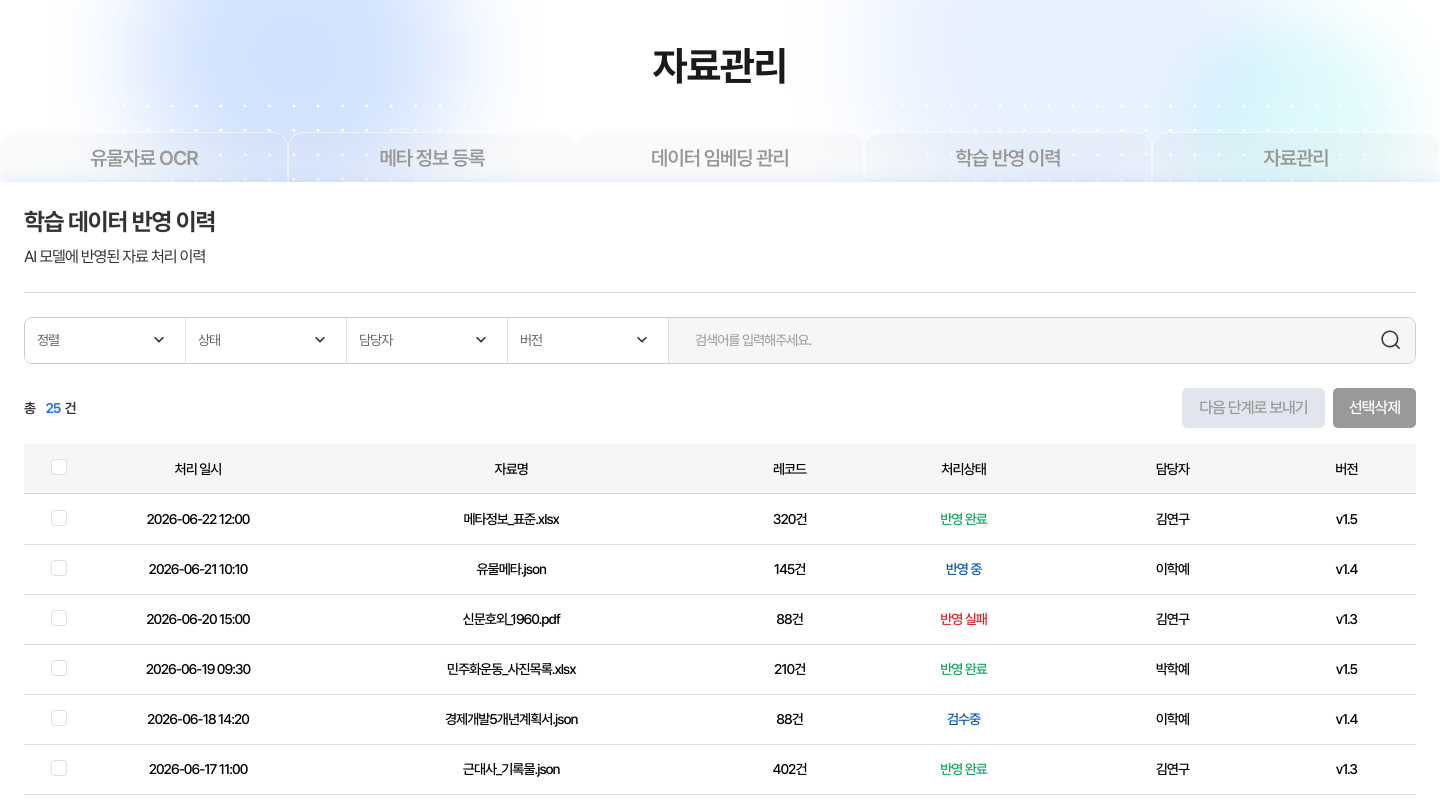
Test: History: 검색 제출은 페이지 리로드 없이 표를 거른다
The width and height of the screenshot is (1440, 810).
In the search field with placeholder "검색어를 입력해주세요.": [1032, 340] box [685,318,1379,363], type "유물메타"
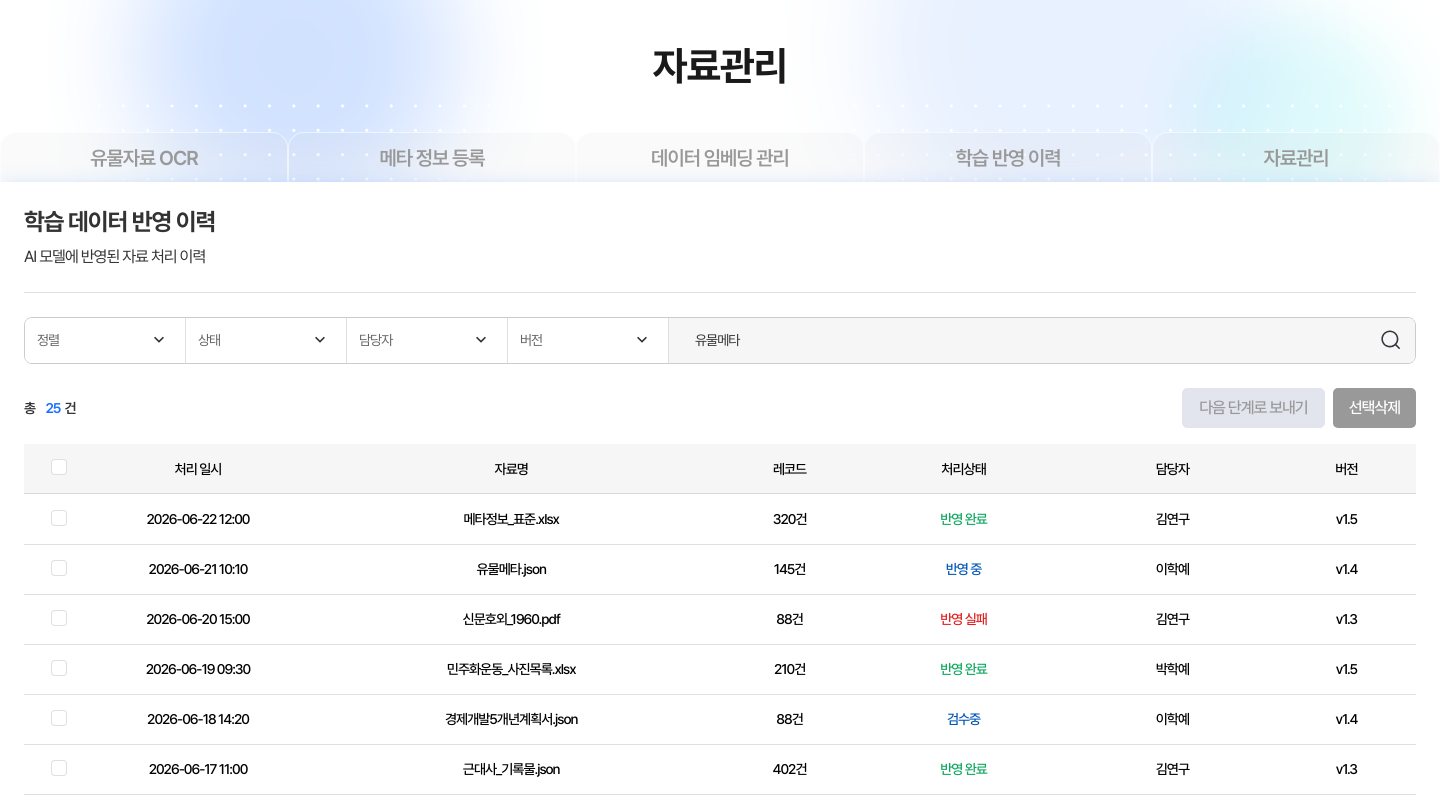
Click the button named "검색": [1391, 340] box [1379,328,1403,352]
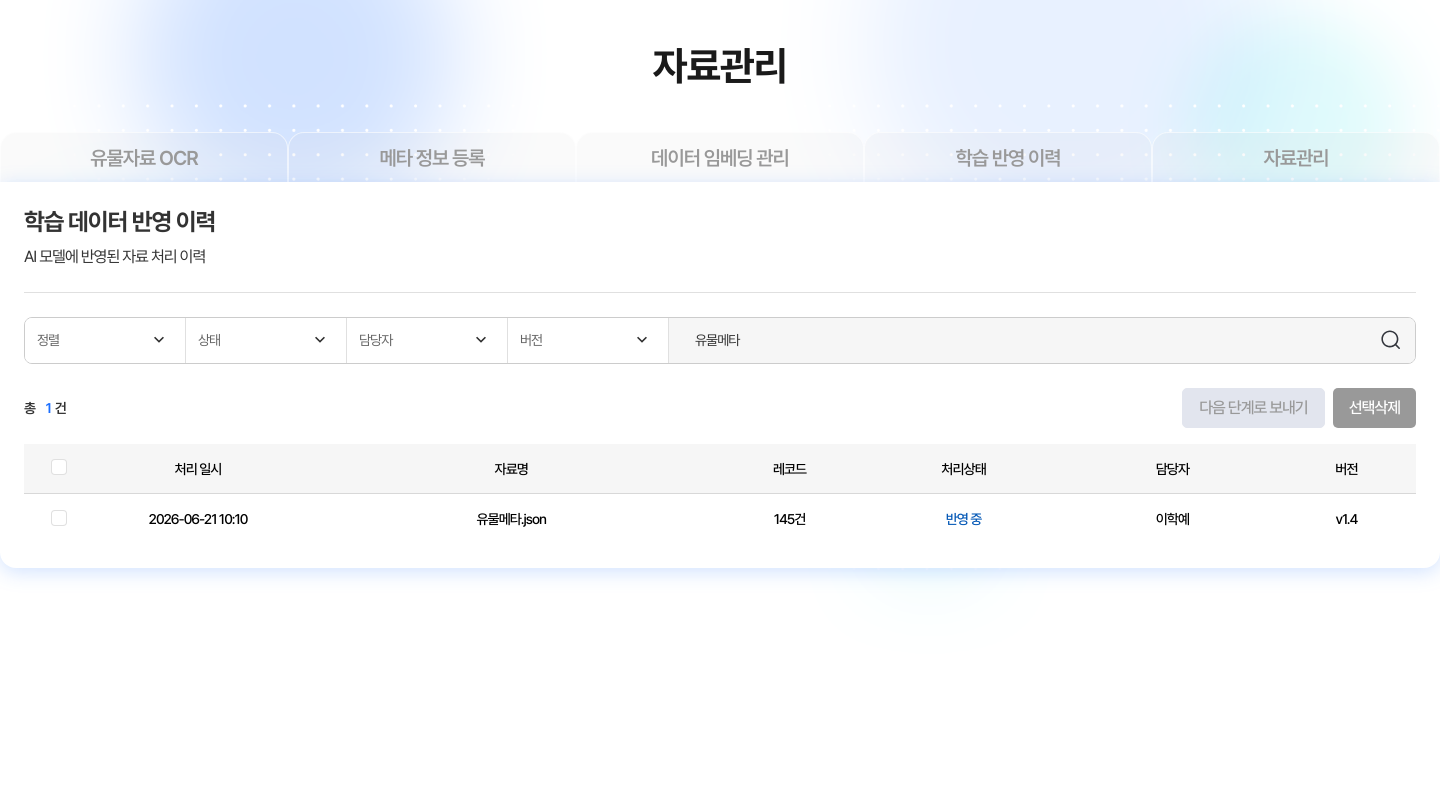
Check: the text "유물메타.json" is shown, box [302,494,720,544]
Check: the text "메타정보_표준.xlsx" is gone
Check: the element with class "data_total" reads "총 1건", box [24,399,66,417]
